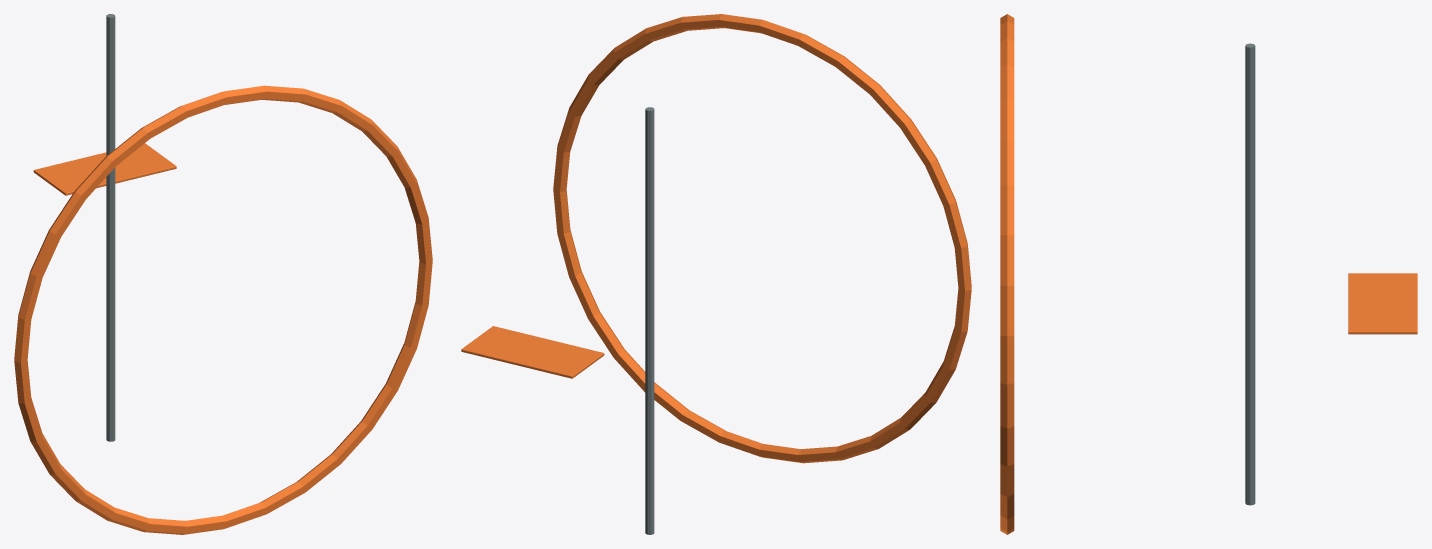
Rendered from pf_mission_props.glb.
3 views of the same model, side by side, from view 1: azimuth 30°, elevation 25°; view 2: azimuth 150°, elevation 25°; view 3: azimuth 270°, elevation 25° (orthographic). The views are drawn at different scales.
Visible parts, largest first — view 1: landing_target_ring, checkpoint_flagpole, checkpoint_flag; view 2: landing_target_ring, checkpoint_flagpole, checkpoint_flag; view 3: landing_target_ring, checkpoint_flagpole, checkpoint_flag.
Boxes of the visible parts, x1,y1,x2,y2 form: landing_target_ring: [14, 85, 432, 534]; checkpoint_flagpole: [106, 14, 115, 441]; checkpoint_flag: [33, 143, 176, 195]; landing_target_ring: [553, 14, 971, 463]; checkpoint_flagpole: [645, 107, 654, 534]; checkpoint_flag: [461, 326, 604, 378]; landing_target_ring: [1000, 14, 1014, 534]; checkpoint_flagpole: [1245, 43, 1255, 505]; checkpoint_flag: [1348, 273, 1417, 334].
Size of the model in its own units: 8.26 by 8.26 by 6.61.
